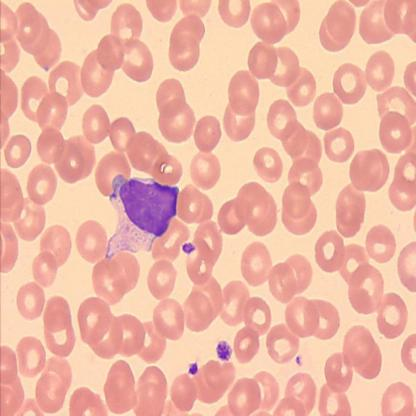Atypical lymphocyte: (107, 174, 181, 258)
